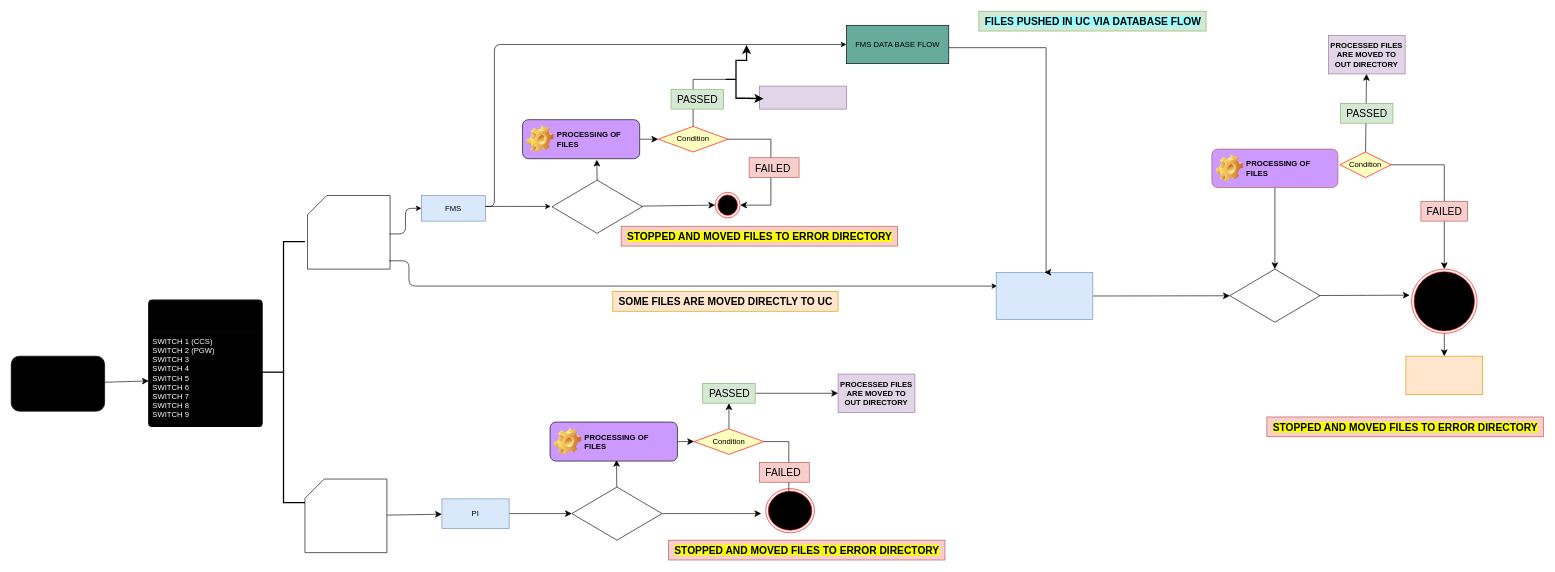
This 1555x572 diagram has some shape labels left out. The box of each missing label's shape, as (x1, y1, x2, y2) in pixels:
ERROR DIRECTTORY: (1405, 356, 1483, 395)
FILE FETCH LOCATION 1 (PATH ON UNIX SERVER): (307, 195, 390, 269)
FILE FETCH LOCATION 2 (PATH ON UNIX SERVER): (304, 478, 387, 553)
FILES ARE STAGGED: (148, 299, 262, 427)
IN DIRECTORY: (551, 180, 642, 233)
PI IN DIRECTORY: (571, 486, 662, 540)
ROOT (UNIX): (11, 356, 105, 411)
UC: (996, 272, 1093, 320)
UC IN DIRECTORY: (1229, 268, 1320, 322)
ZIP AND MOVE FILES TO OUT DIRECTORY: (759, 85, 846, 109)
